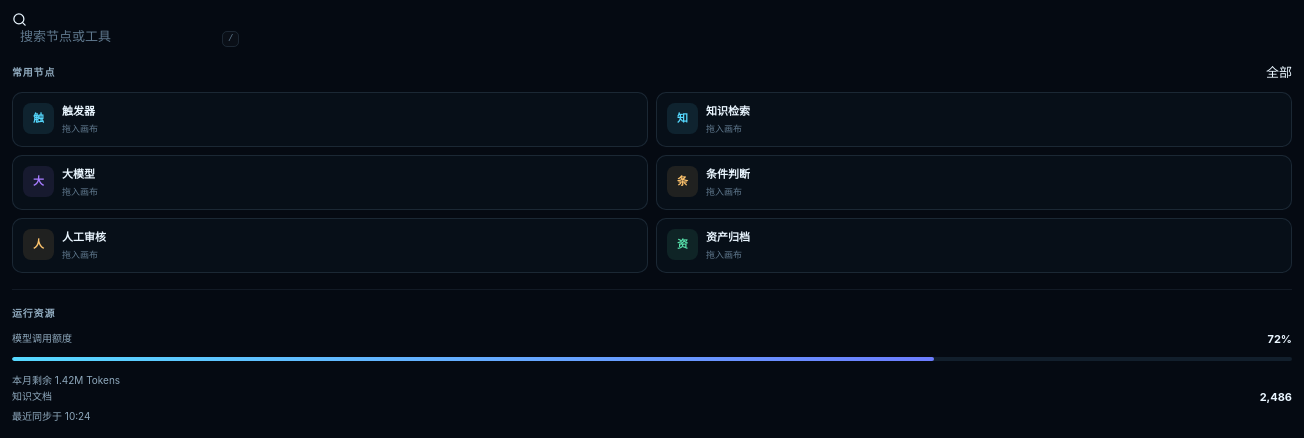
NodeLibrary › shows an explicit empty state for an unmatched query
Type "不存在的节点" into the field named "搜索节点" at (121, 37), box [20,27,222,46]
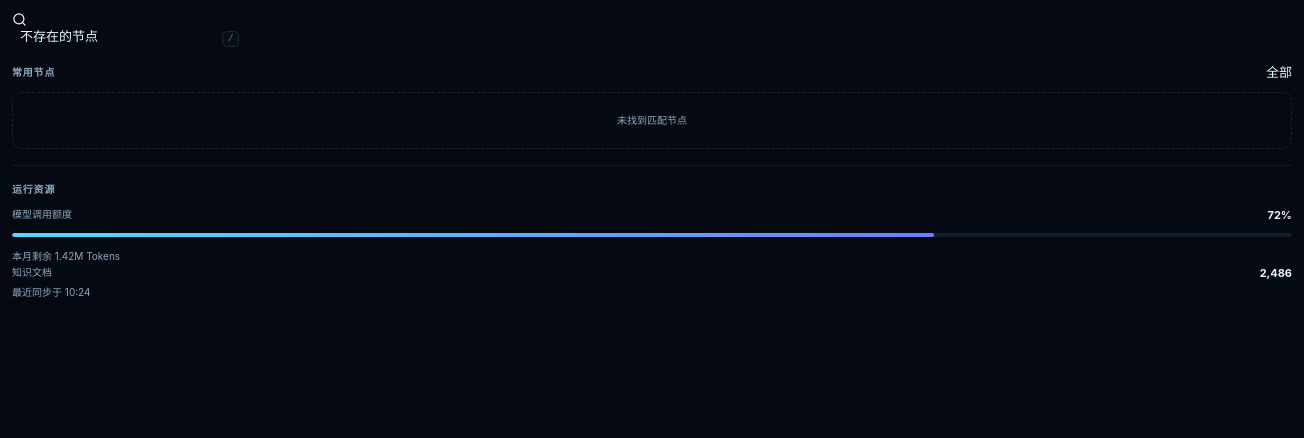
Check: the text "未找到匹配节点" is shown, box [12,92,1292,149]
